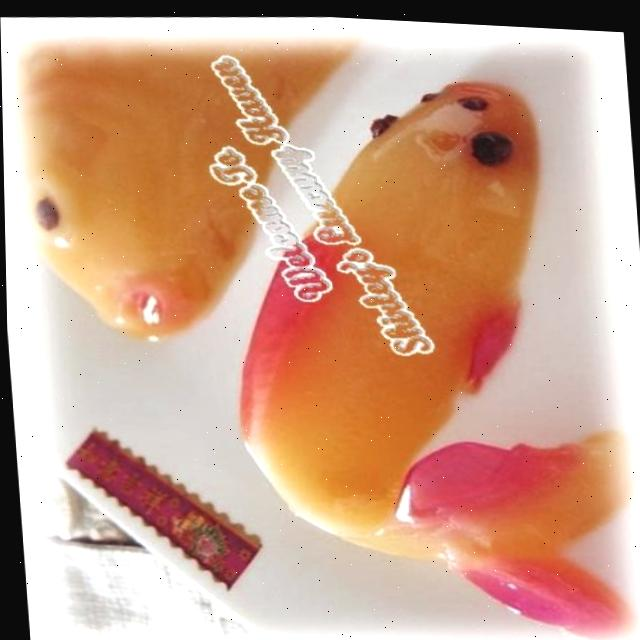蛋糕甜品: (0, 14, 640, 640)
